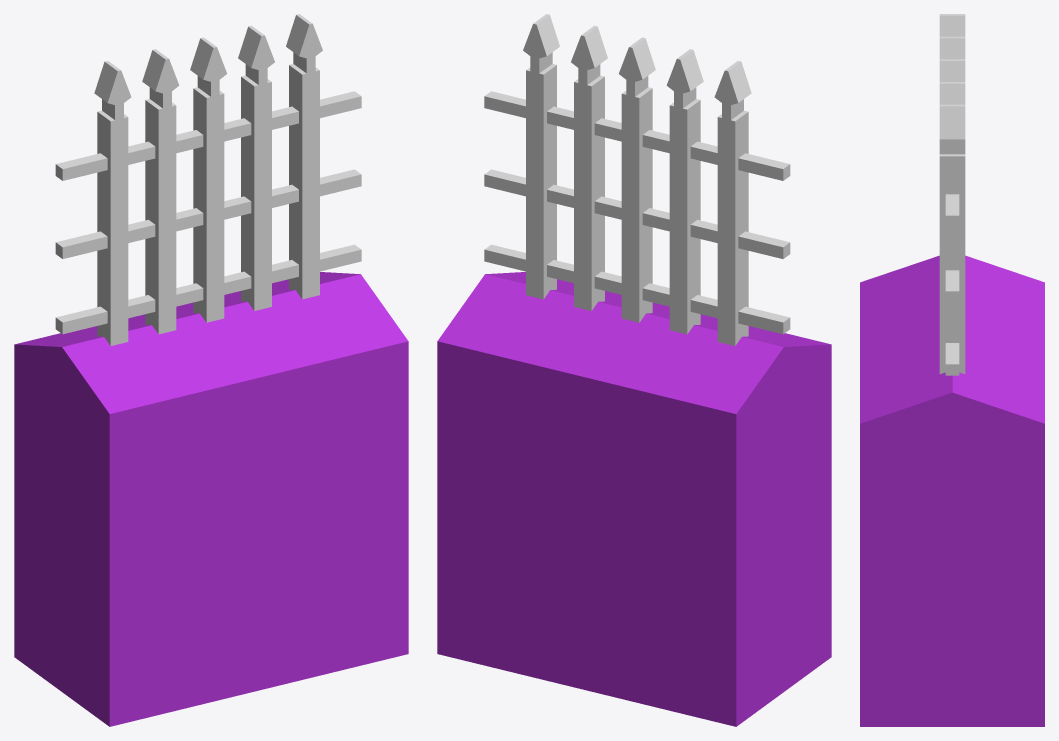
The model's file is cerca.fbx.
The picture shows the model from 3 angles, left to right: view 1: azimuth 30°, elevation 25°; view 2: azimuth 150°, elevation 25°; view 3: azimuth 270°, elevation 25°; orthographic projection. The views are drawn at different scales.
Visible parts, largest first — view 1: cerca; view 2: cerca; view 3: cerca.
Part boxes in pixels (left/top/right/bottom): cerca: left=14, top=14, right=408, bottom=726; cerca: left=437, top=14, right=831, bottom=726; cerca: left=860, top=14, right=1044, bottom=726.
Size of the model in its own units: 202 by 392 by 110.
